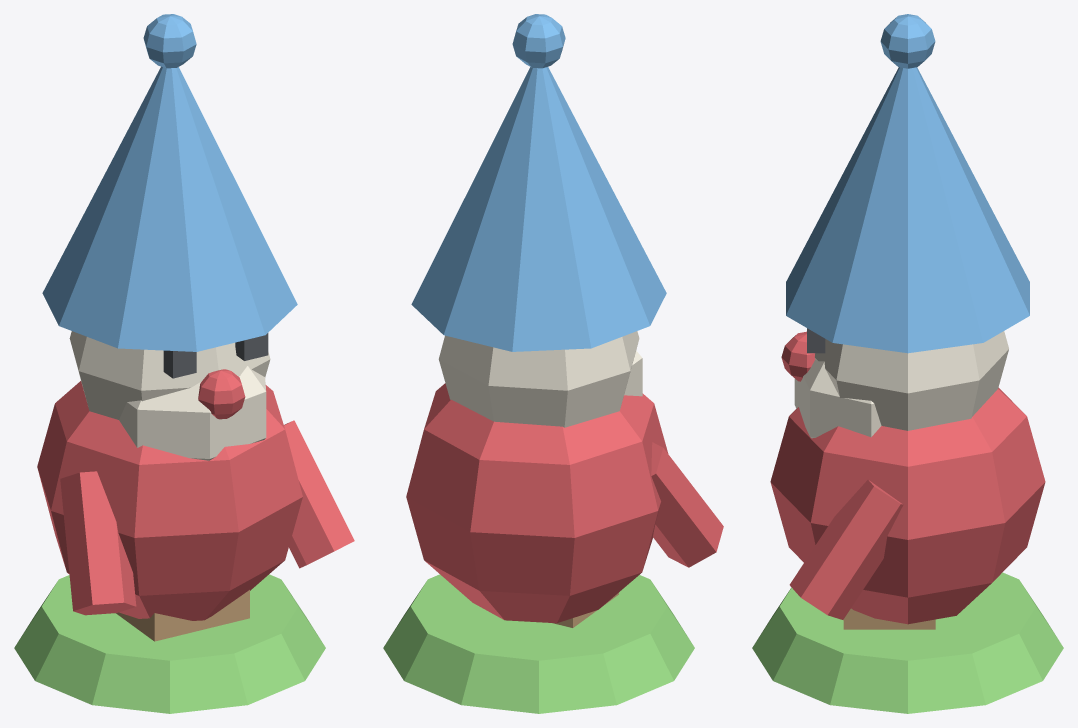
The model's file is lawn-mowing-simulator-kit-garden-gnome-blue-hat-c5be7b7f__27406.glb.
The picture shows the model from 3 angles, left to right: view 1: azimuth 30°, elevation 25°; view 2: azimuth 150°, elevation 25°; view 3: azimuth 270°, elevation 25°; orthographic projection.
Parts seen in each view (by area): view 1: garden-gnome-blue-hat; view 2: garden-gnome-blue-hat; view 3: garden-gnome-blue-hat.
Part boxes in pixels (x1,y1,x2,y2): garden-gnome-blue-hat: (14,14,354,713); garden-gnome-blue-hat: (383,14,723,713); garden-gnome-blue-hat: (752,14,1063,713).
Bounding box in the file's own units: 0.3455 × 0.76 × 0.34.
